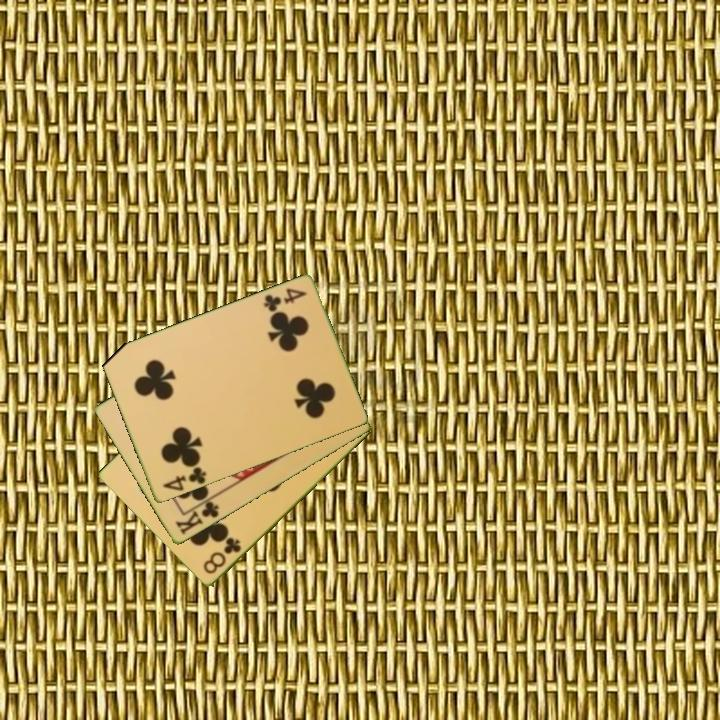4c: (159, 463, 210, 494), (260, 285, 310, 315)
8c: (200, 534, 244, 577)
Kc: (172, 493, 222, 539)
